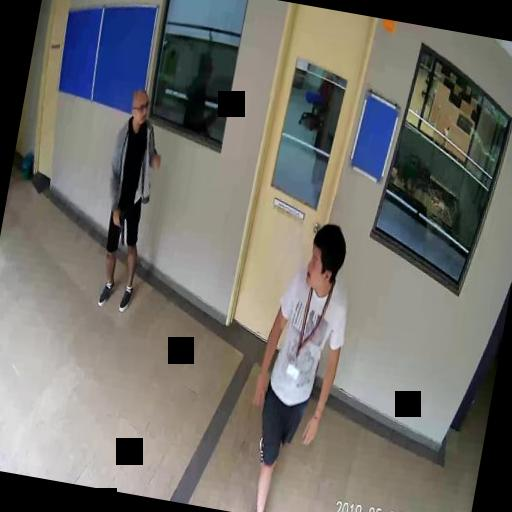Handgun: (108, 210, 128, 242)
